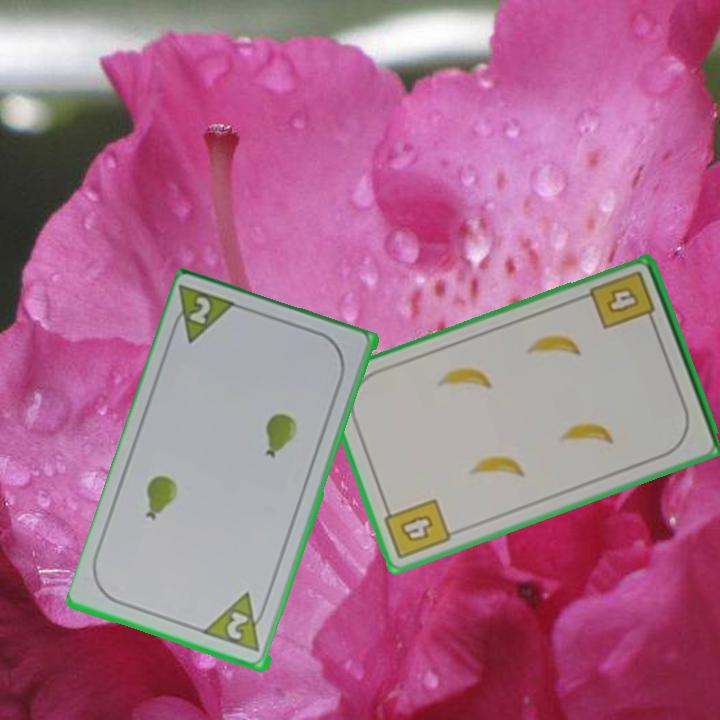2p: (166, 282, 242, 348), (202, 589, 272, 657)
4b: (380, 495, 454, 563), (586, 267, 659, 333)
